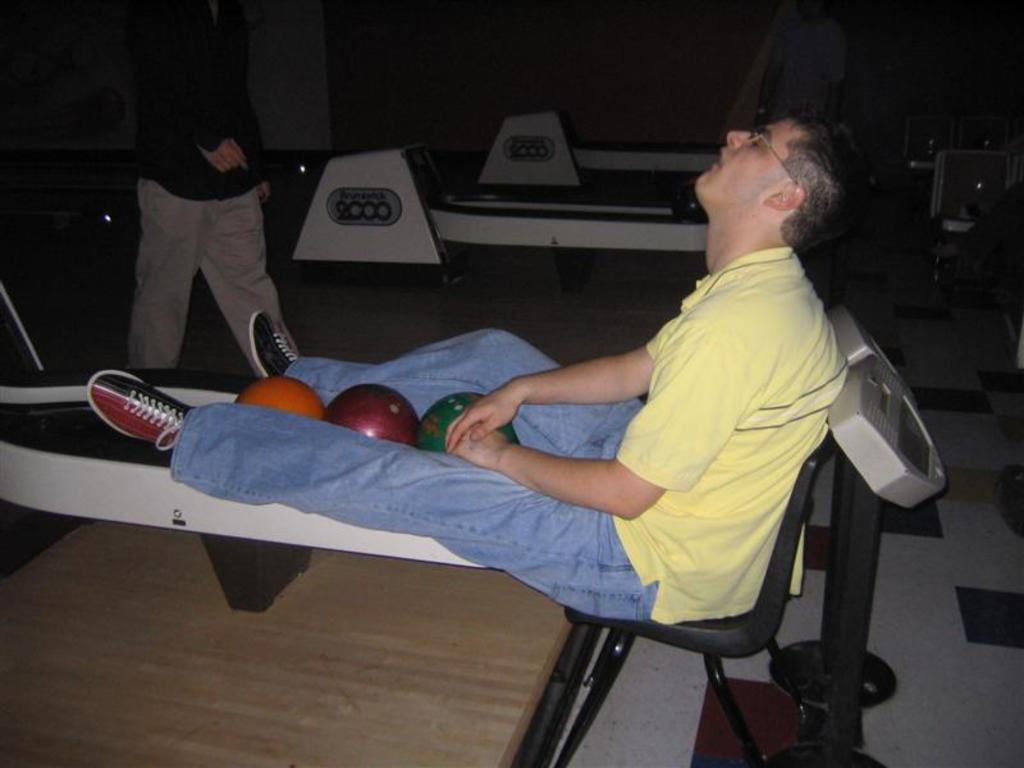Ball: (422, 397, 518, 454), (328, 387, 417, 447), (232, 378, 325, 419)
